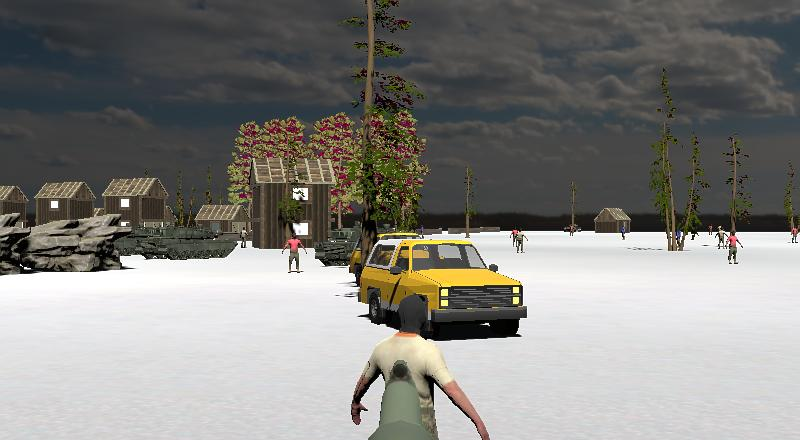House: (235, 143, 351, 254), (99, 166, 177, 237), (189, 199, 255, 249), (591, 202, 638, 241), (590, 203, 638, 241), (0, 180, 33, 232)
Human: (339, 301, 508, 440), (278, 227, 311, 279), (723, 229, 746, 269), (508, 223, 527, 257), (713, 222, 730, 251), (712, 222, 728, 252)
Tank: (132, 218, 253, 269)
car: (342, 226, 539, 354)
